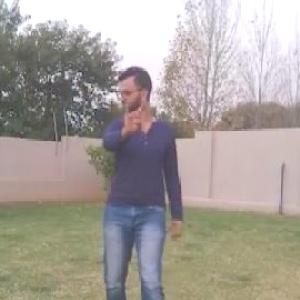takeoff-hand: (118, 95, 148, 138)
